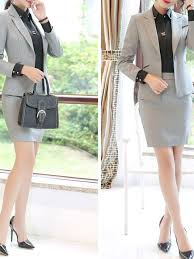F_tailored skirt: (128, 61, 194, 148), (2, 67, 54, 151)
S_business casual jacket: (111, 5, 194, 99), (1, 1, 62, 103)
